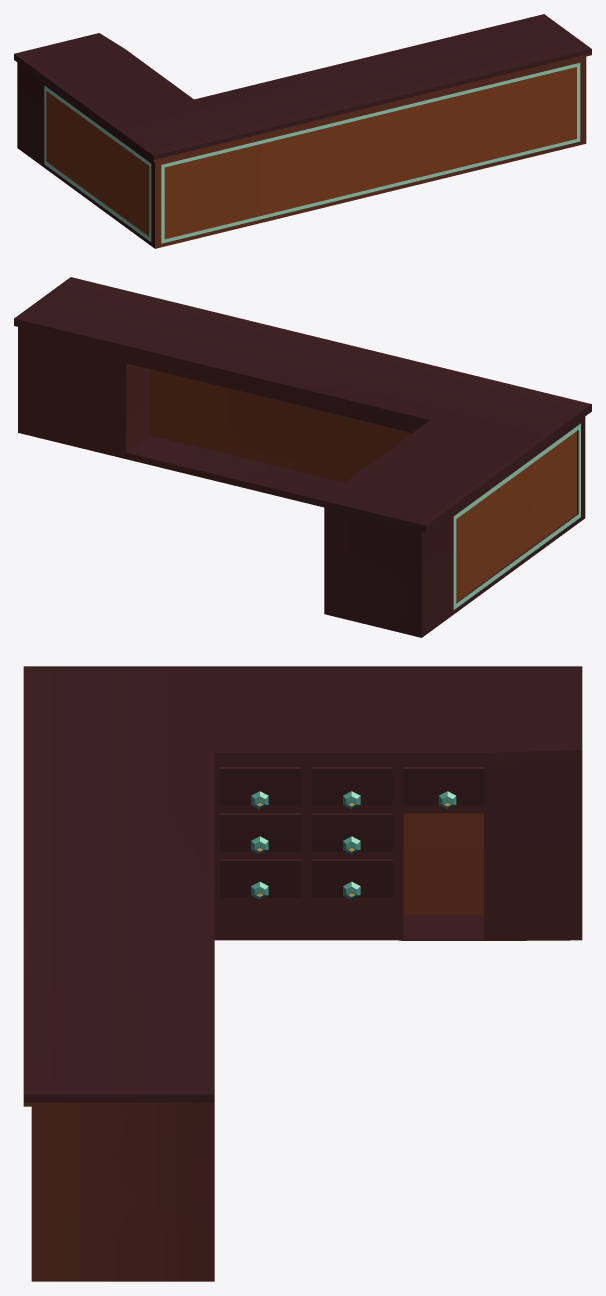
Rendered from TownOffice_DeskT.fbx.
3 renders of one model, top to bottom at view 1: azimuth 30°, elevation 25°; view 2: azimuth 150°, elevation 25°; view 3: azimuth 270°, elevation 25°, orthographic. The views are drawn at different scales.
Parts seen in each view (by area): view 1: Cube.052; view 2: Cube.052; view 3: Cube.052.
Part boxes in pixels (left/top/right/bottom): Cube.052: left=14, top=14, right=591, bottom=248; Cube.052: left=14, top=277, right=591, bottom=637; Cube.052: left=23, top=666, right=582, bottom=1281.
Size of the model in its own units: 255 by 53.19 by 141.
